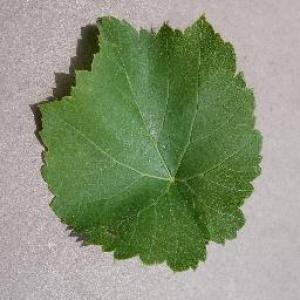Folha: (31, 12, 264, 272)
